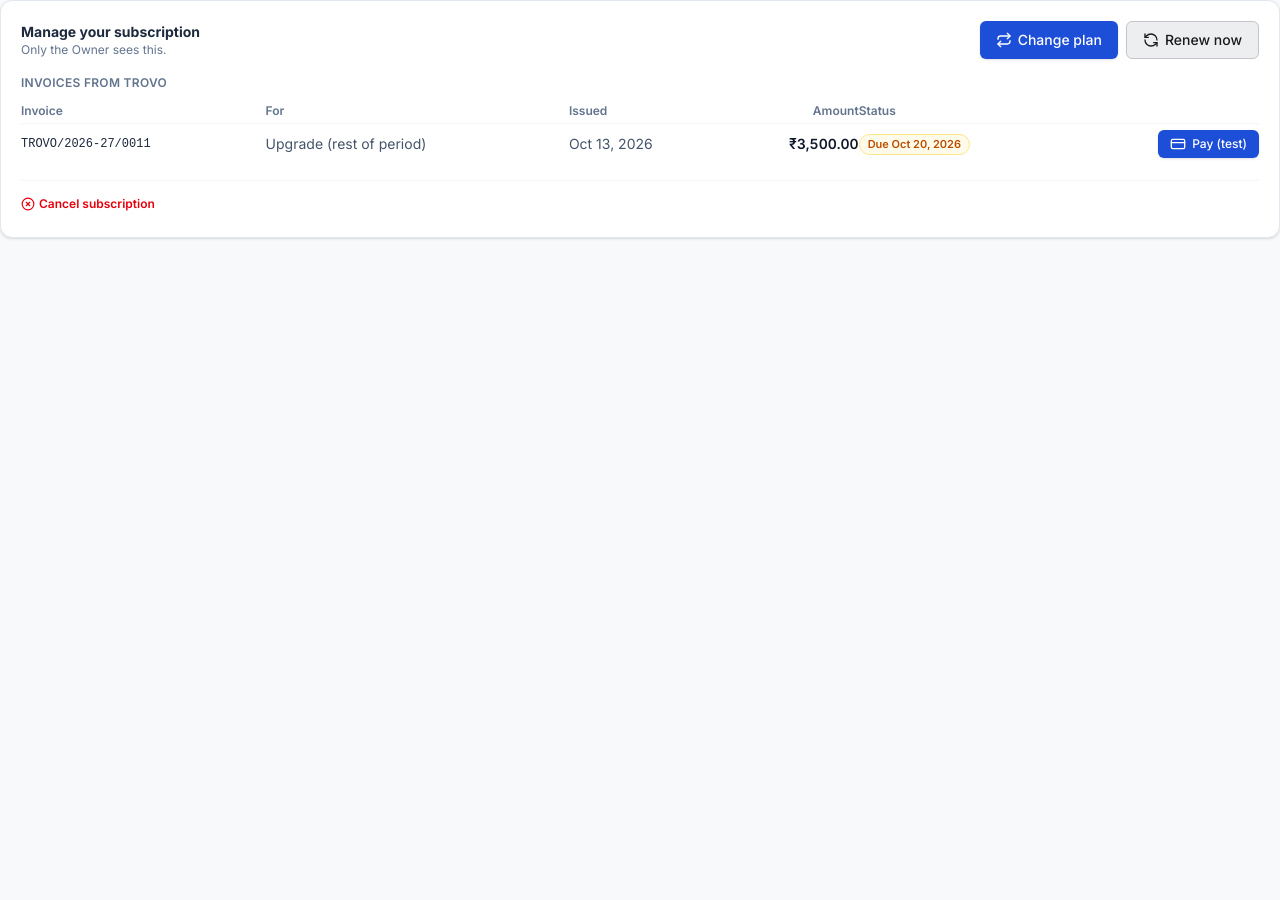
Test case: OwnerBillingPanel › adds a Windows licence: shows the price to pay now, then makes the change
This screenshot has width=1280, height=900.
Step 1. Click the button "Change plan" → point(1049, 40), box [980,21,1118,59]
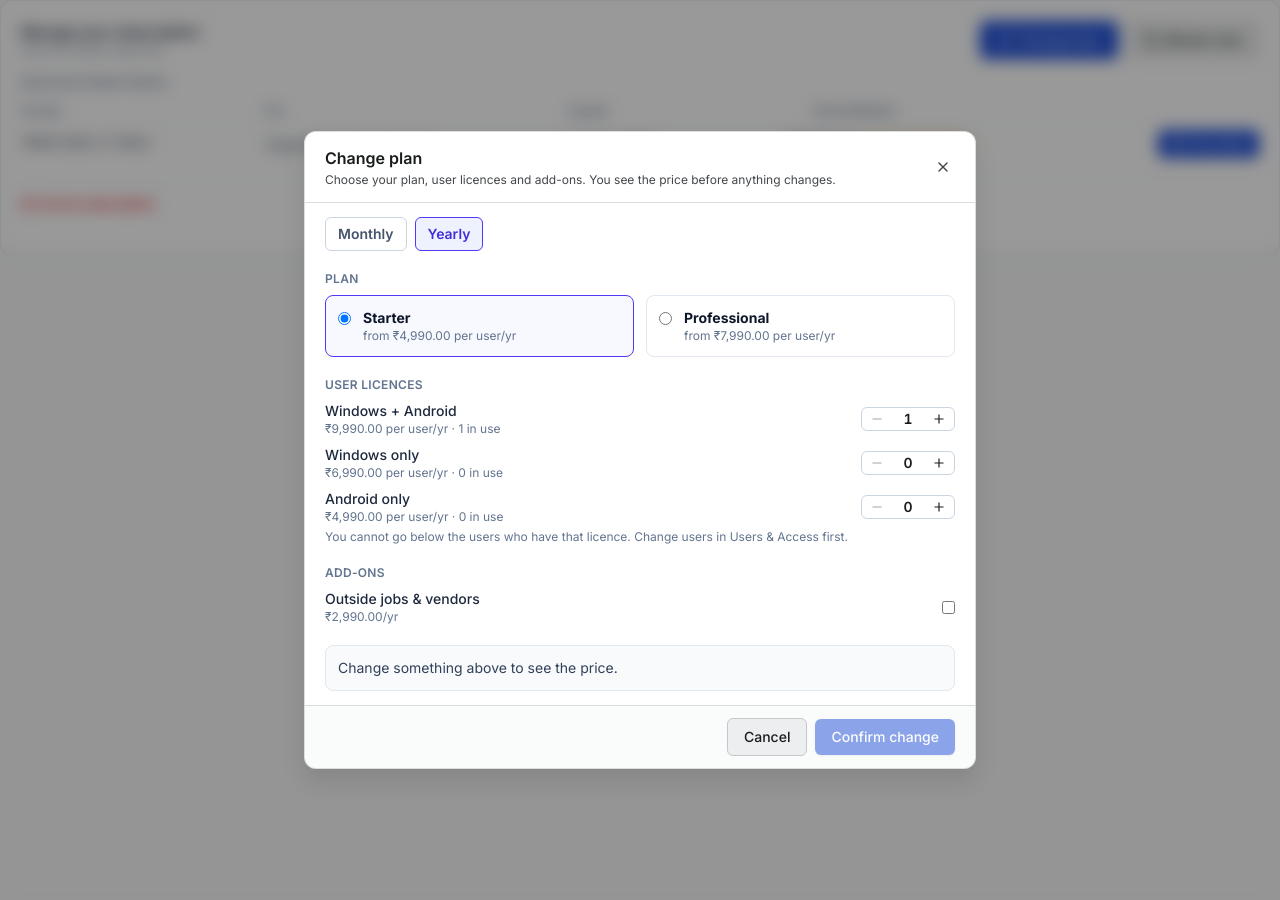
Check: the button named "Fewer Windows + Android licences" is disabled, box [862,408,892,430]
Step 2. Click the button named "More Windows only licences" → point(939, 463), box [924,452,954,474]
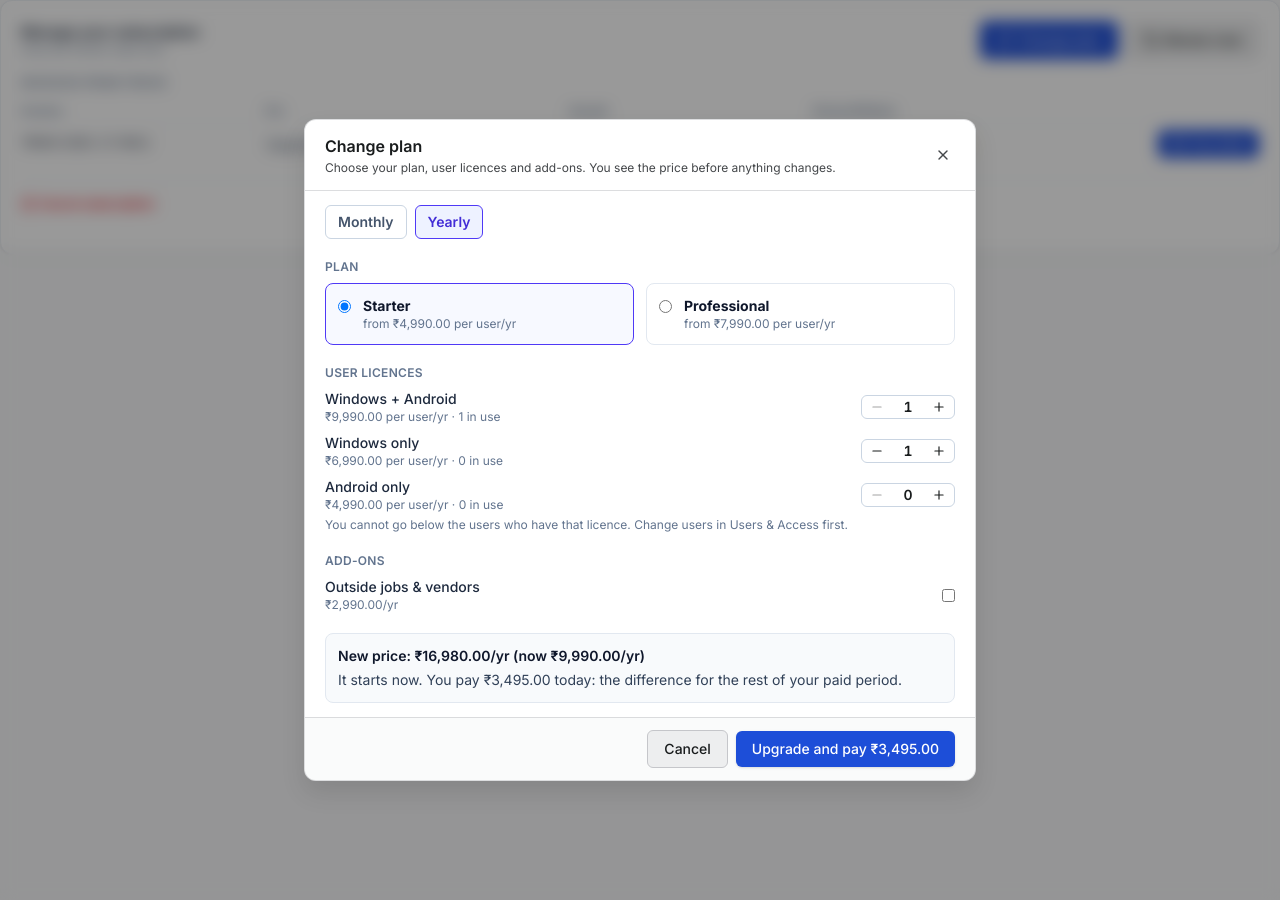
Check: the text "You pay ₹3,495.00 today" is shown, box [338,671,902,688]
Step 3. Click the button "Upgrade and pay ₹3,495.00" → point(845, 749), box [736,731,955,767]
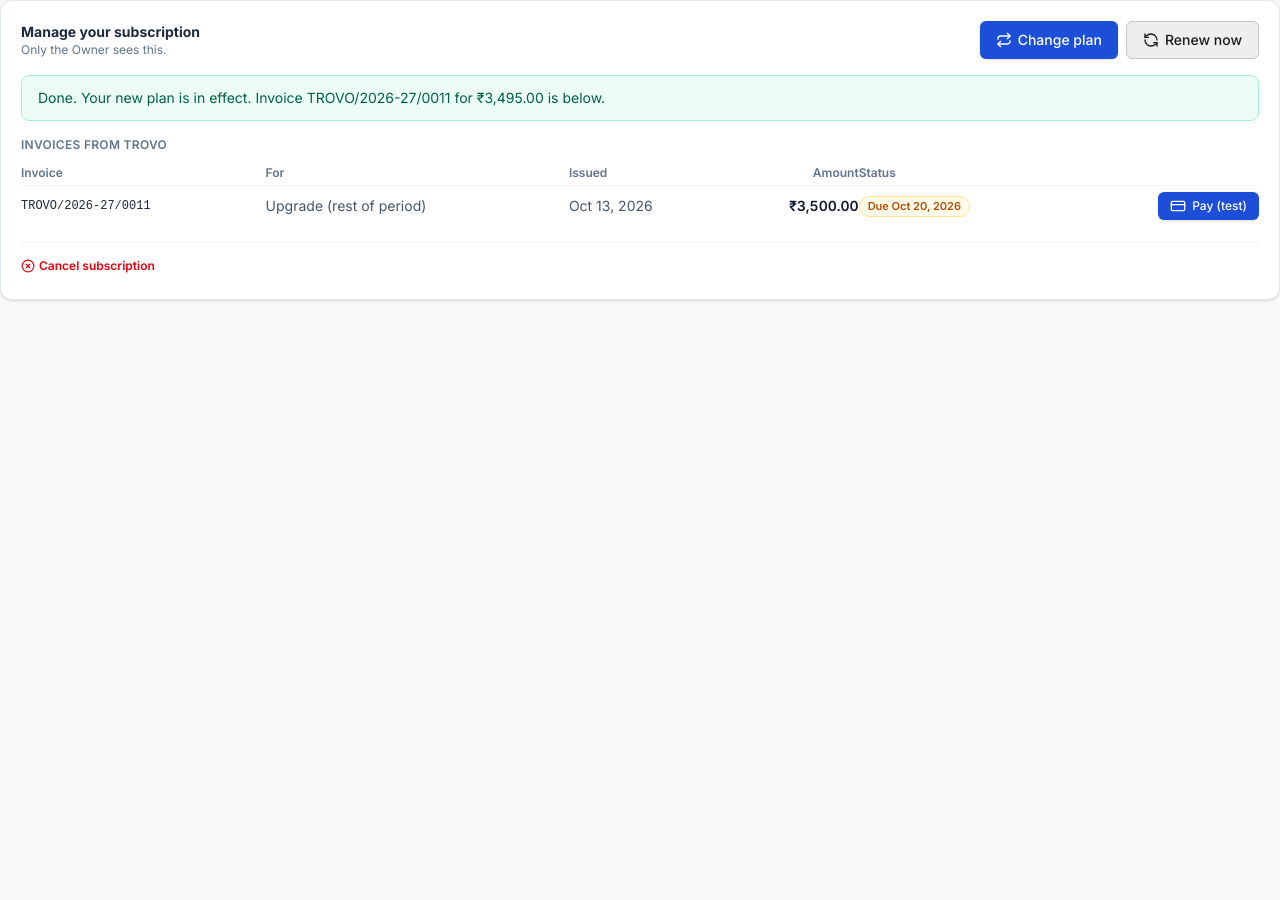
Check: the text "Invoice TROVO/2026-27/0011 for ₹3,495.00 is below" is shown, box [38,89,605,106]
